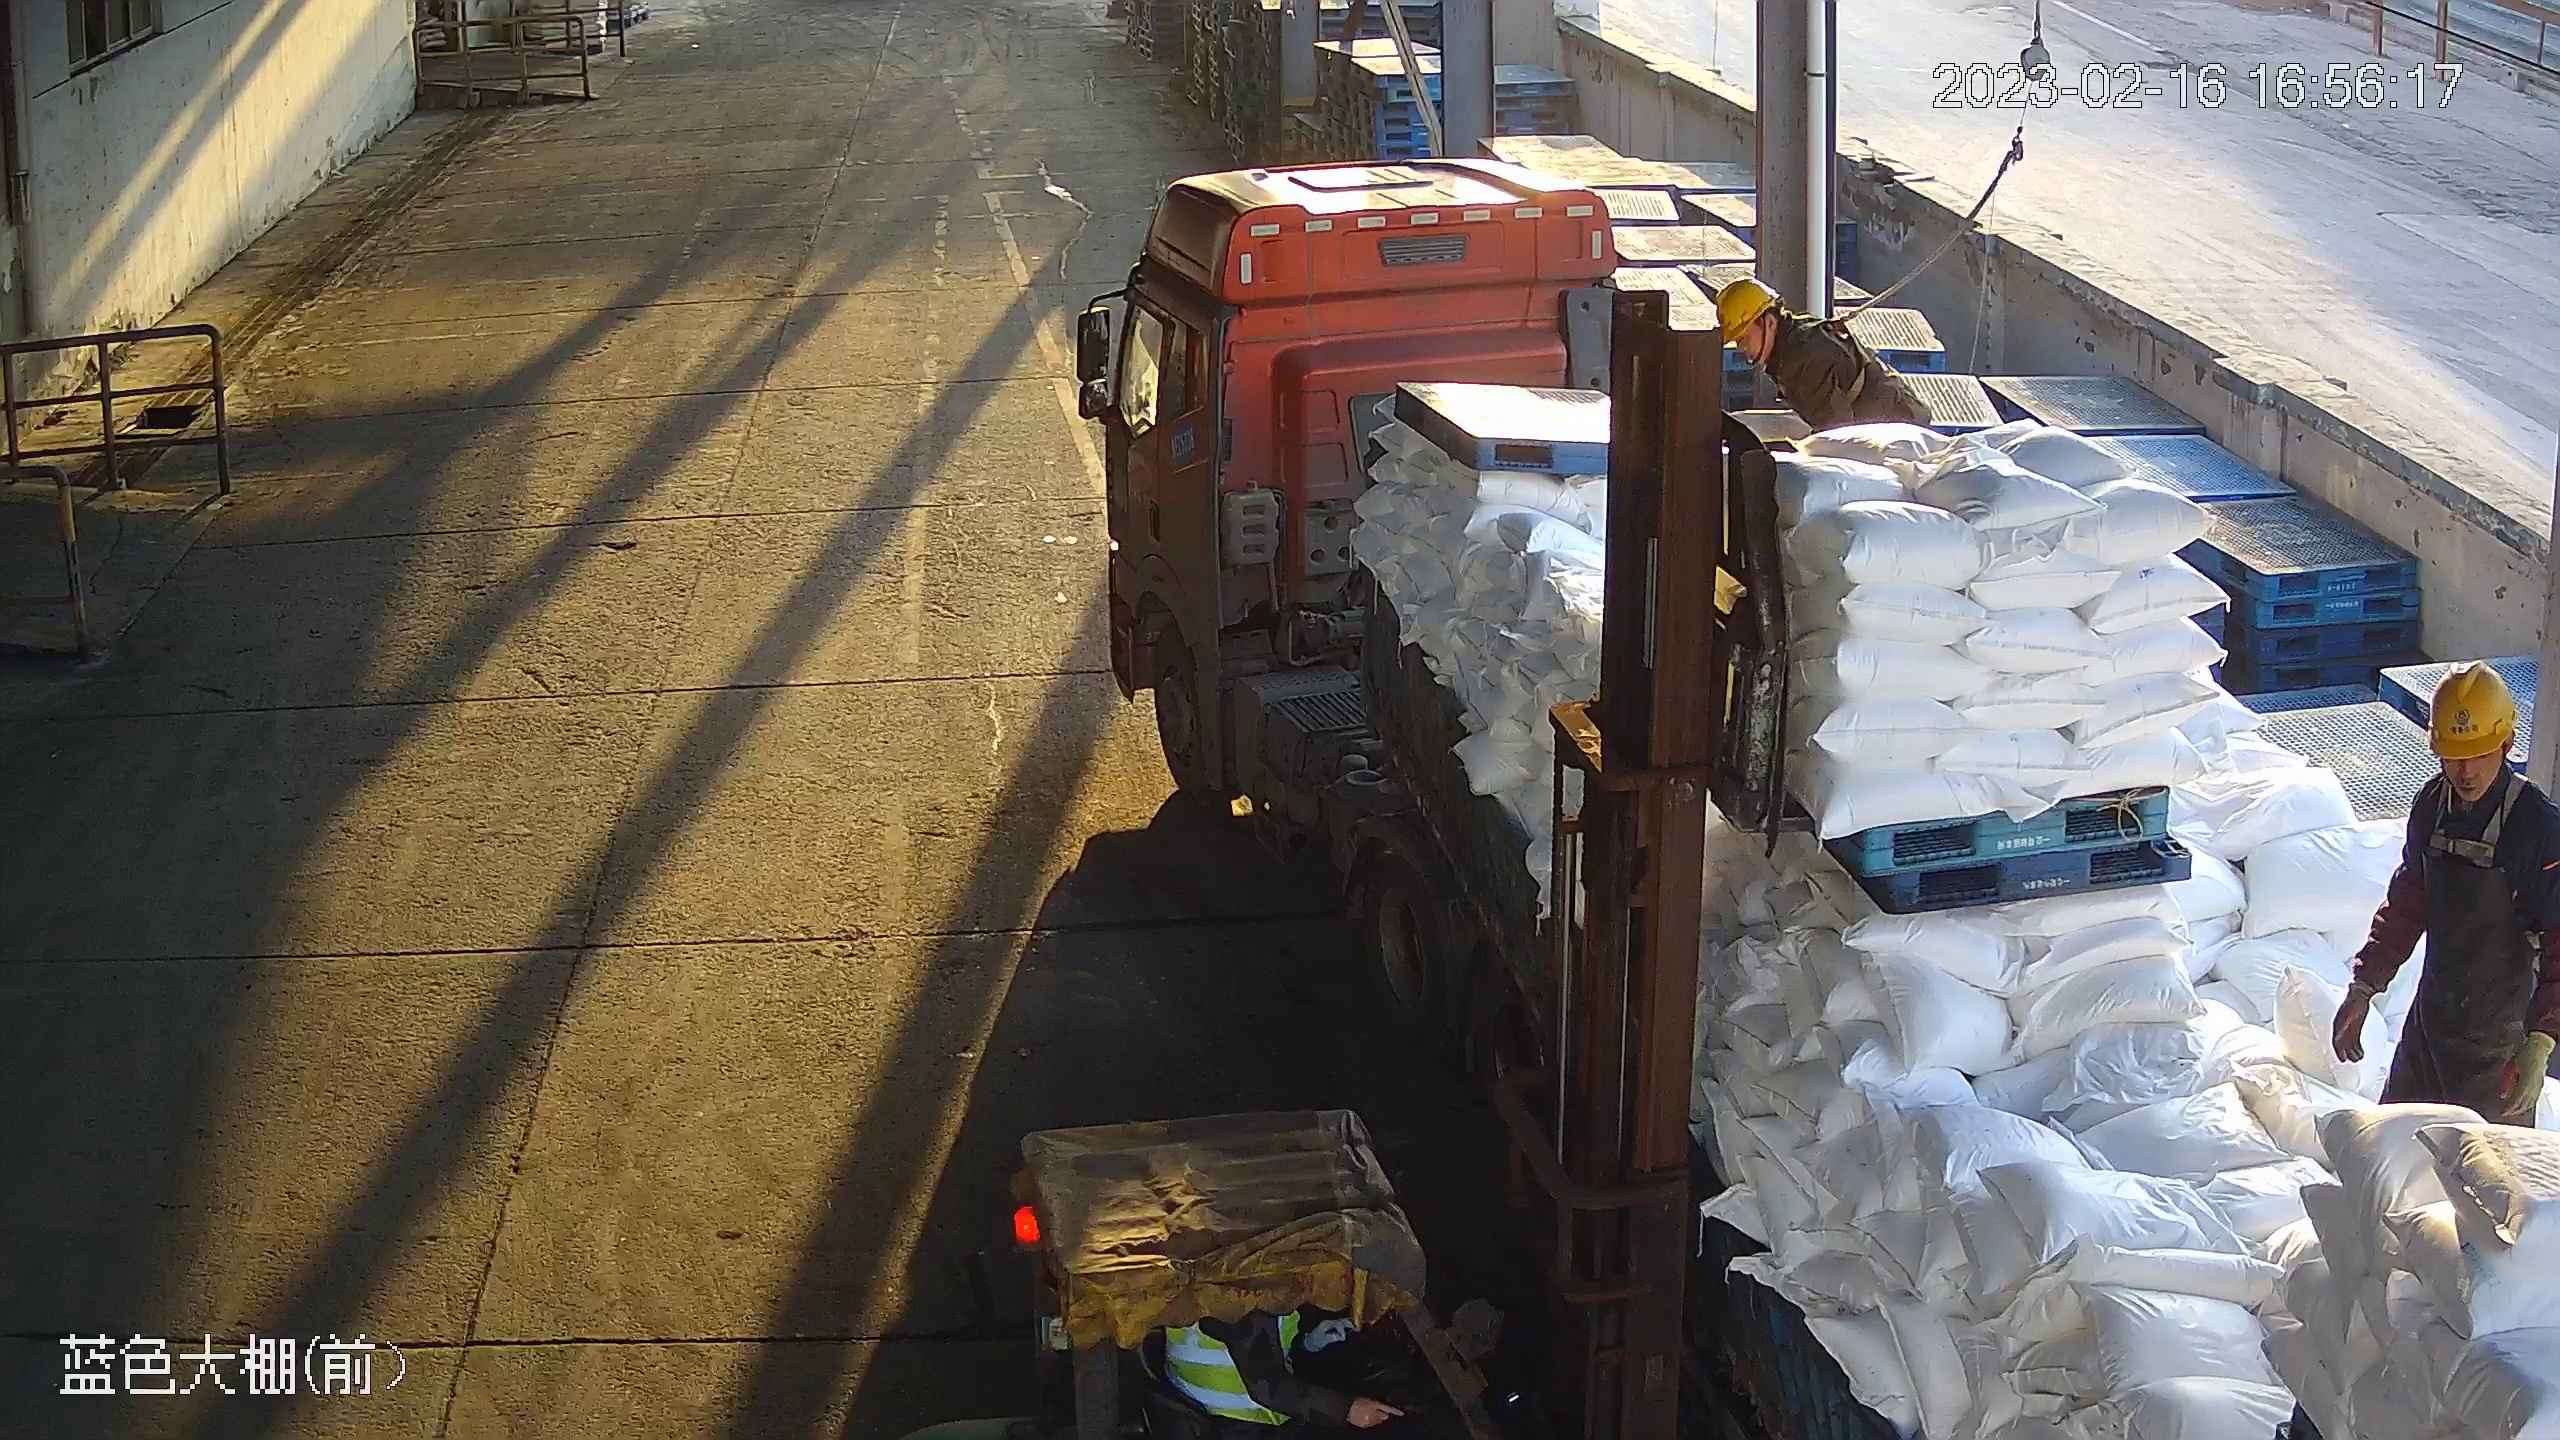belt: (2411, 773, 2523, 877), (1784, 310, 1873, 408)
head: (2370, 654, 2559, 879), (1720, 269, 1853, 395)
helmet: (2420, 653, 2527, 773), (1712, 271, 1783, 338)
people: (2344, 643, 2560, 1132)
truck: (1079, 164, 2560, 1440)
